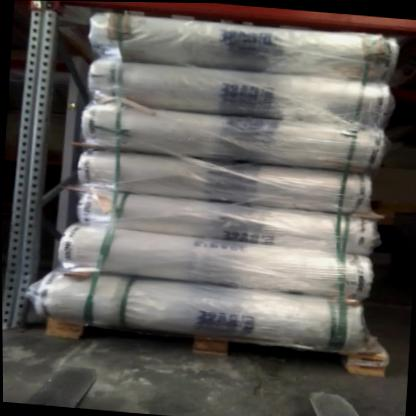vertical_damage: (3, 267, 44, 336)
